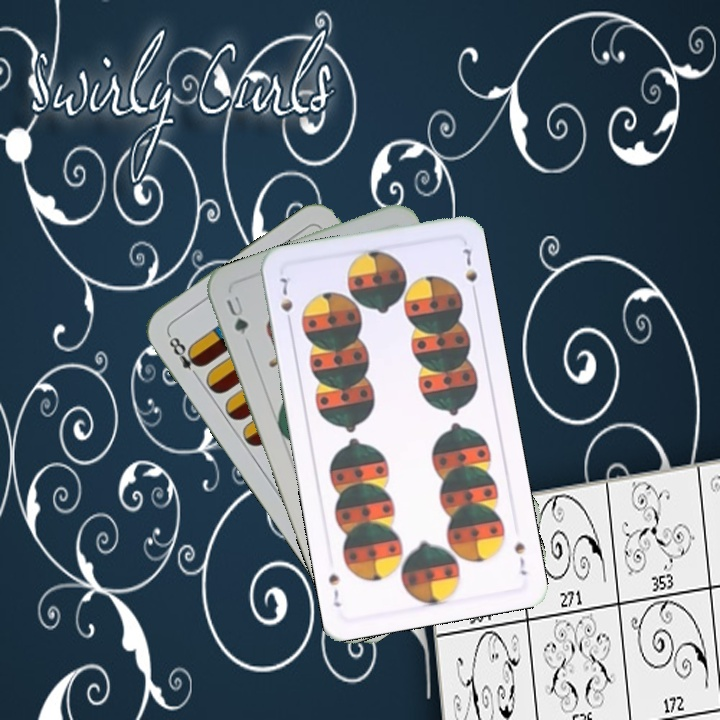E8: (164, 330, 206, 382)
GU: (222, 291, 251, 337)
S7: (276, 273, 296, 329), (510, 538, 530, 578)
